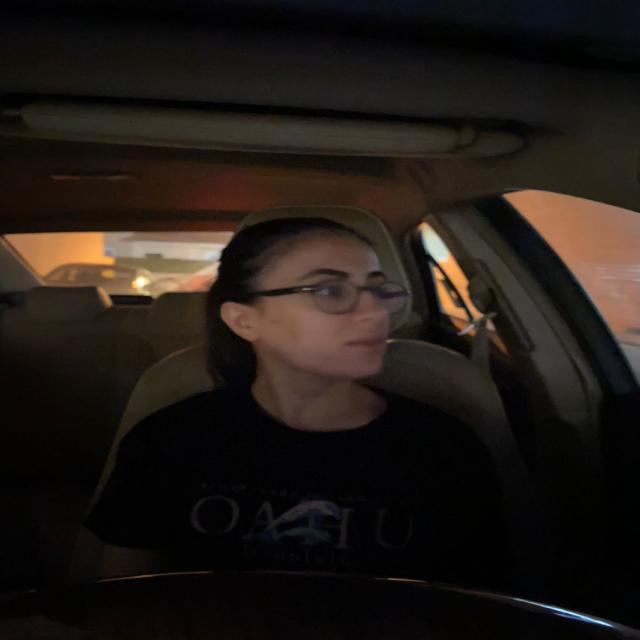LeftRight: (208, 214, 416, 426)
